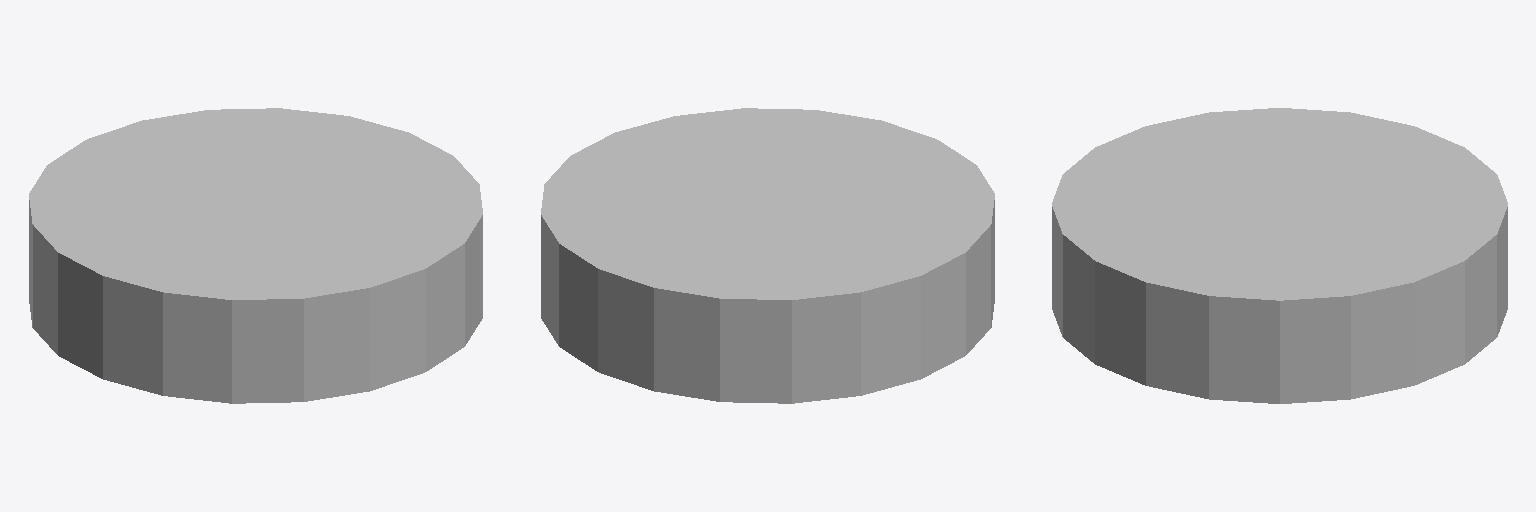
The model's file is Wheel Left.obj.
3 renders of one model, left to right at view 1: azimuth 30°, elevation 25°; view 2: azimuth 150°, elevation 25°; view 3: azimuth 270°, elevation 25°, orthographic.
Parts seen in each view (by area): view 1: Wheel Left; view 2: Wheel Left; view 3: Wheel Left.
Part boxes in pixels (left/top/right/bottom): Wheel Left: left=29, top=108, right=482, bottom=403; Wheel Left: left=541, top=108, right=994, bottom=403; Wheel Left: left=1052, top=108, right=1507, bottom=403.
Bounding box in the file's own units: 2 × 0.5 × 2.